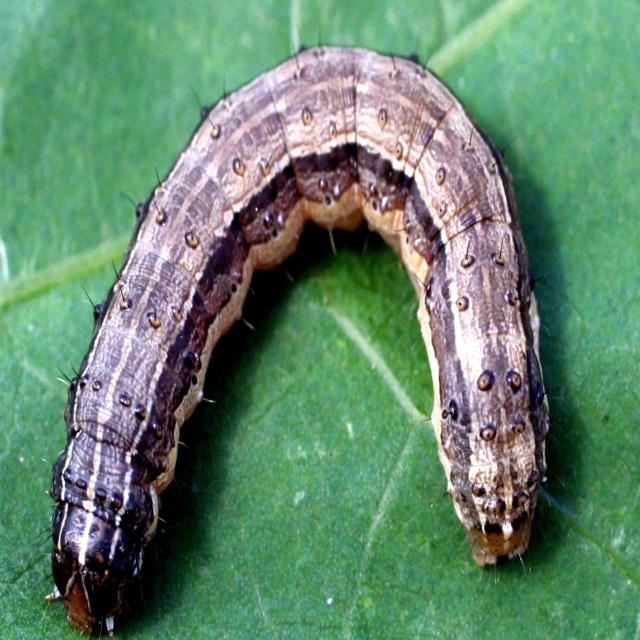armyworm: (42, 40, 552, 636)
